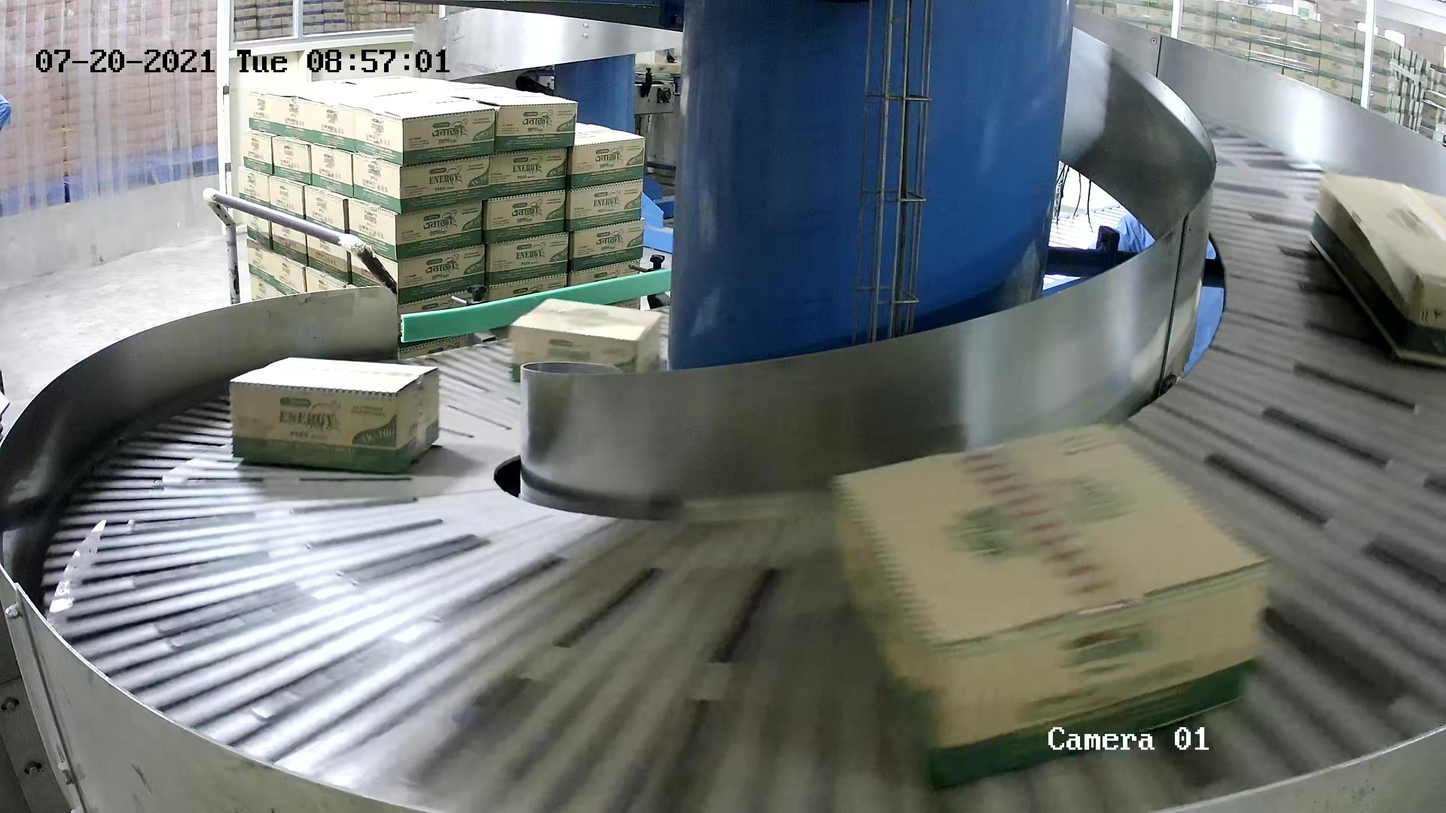Box: (827, 420, 1271, 789), (1308, 169, 1446, 367), (228, 356, 440, 474), (509, 297, 663, 383)
